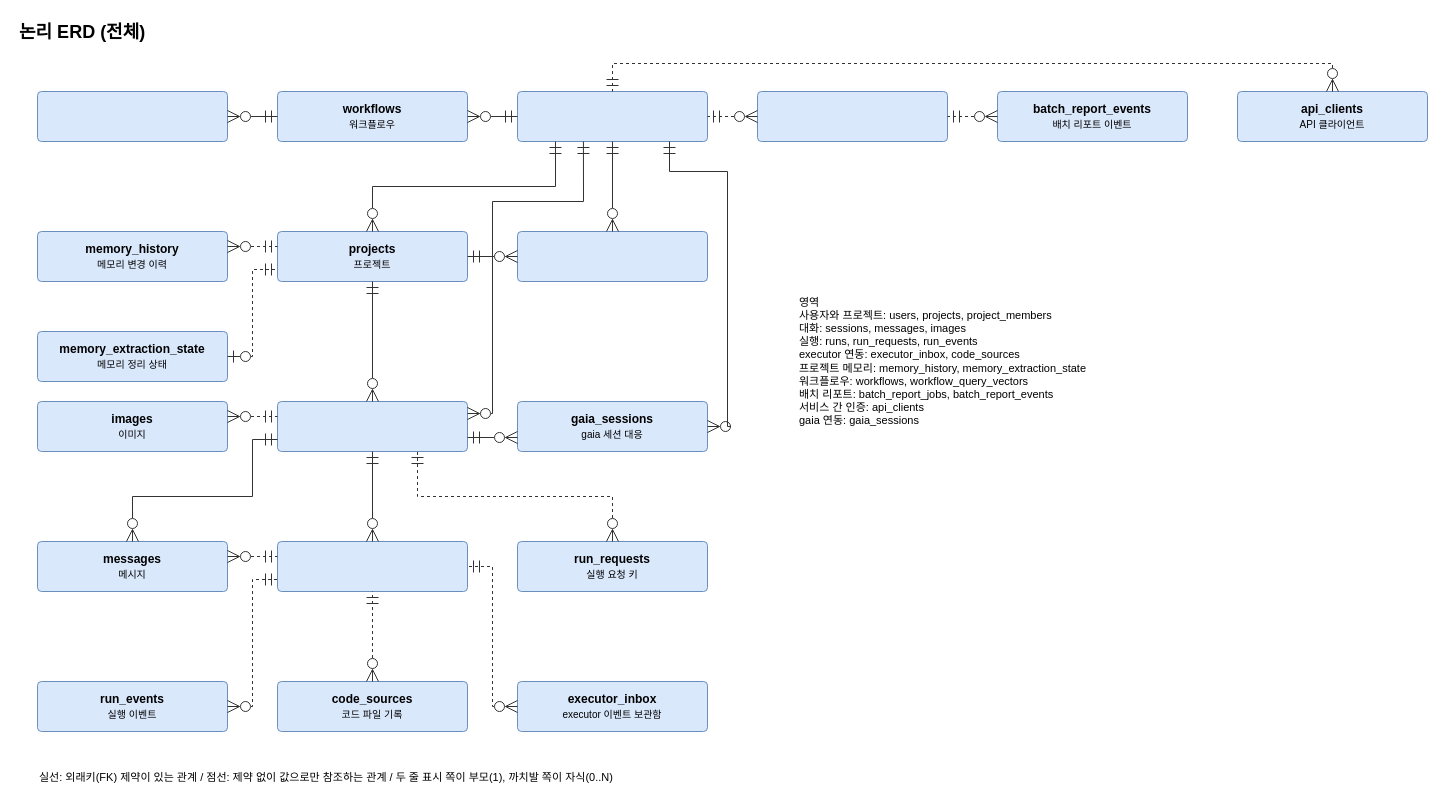
The diagram is 1445 pixels wide and 804 high, and some of its shapes have lost their labels. The shapes that lost their labels are listed below. From the top down, each one's centre as x and y in pixels, then its label:
the point at 132,116: workflow_query_vectors 워크플로우 검색 벡터
the point at 612,116: users 사용자
the point at 852,116: batch_report_jobs 배치 리포트 작업
the point at 612,256: project_members 프로젝트 구성원
the point at 372,426: sessions 채팅 세션
the point at 372,566: runs 실행
